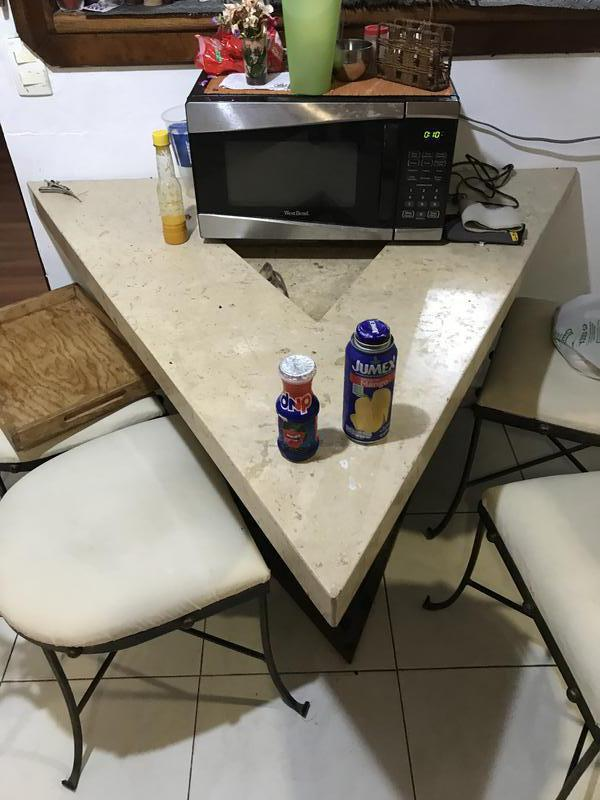danup: (272, 355, 320, 462)
jugo_jumex: (340, 322, 400, 443)
